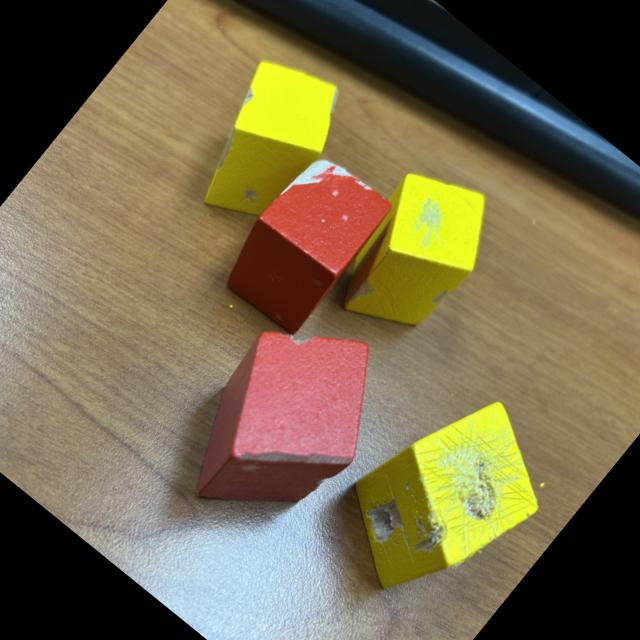broken: (312, 361, 577, 635), (154, 288, 416, 560), (314, 148, 516, 358), (168, 40, 362, 244), (210, 143, 398, 340)
